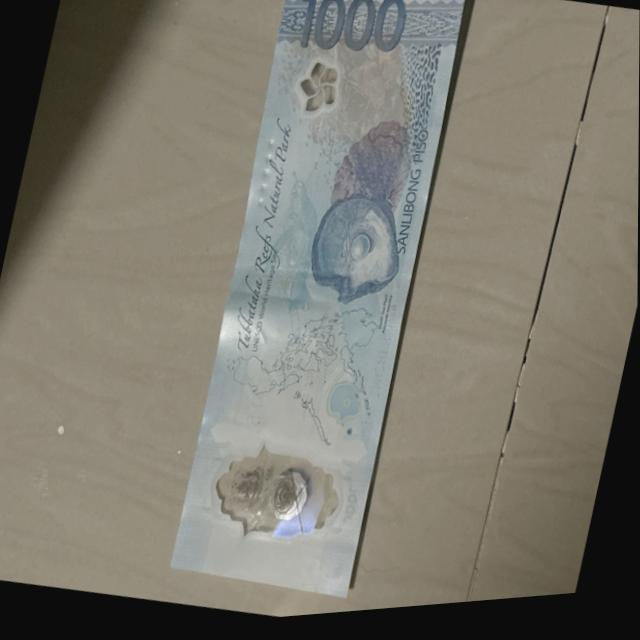clear_window: (198, 424, 360, 566)
sampaguita: (295, 63, 343, 125)
value: (291, 0, 411, 77)
